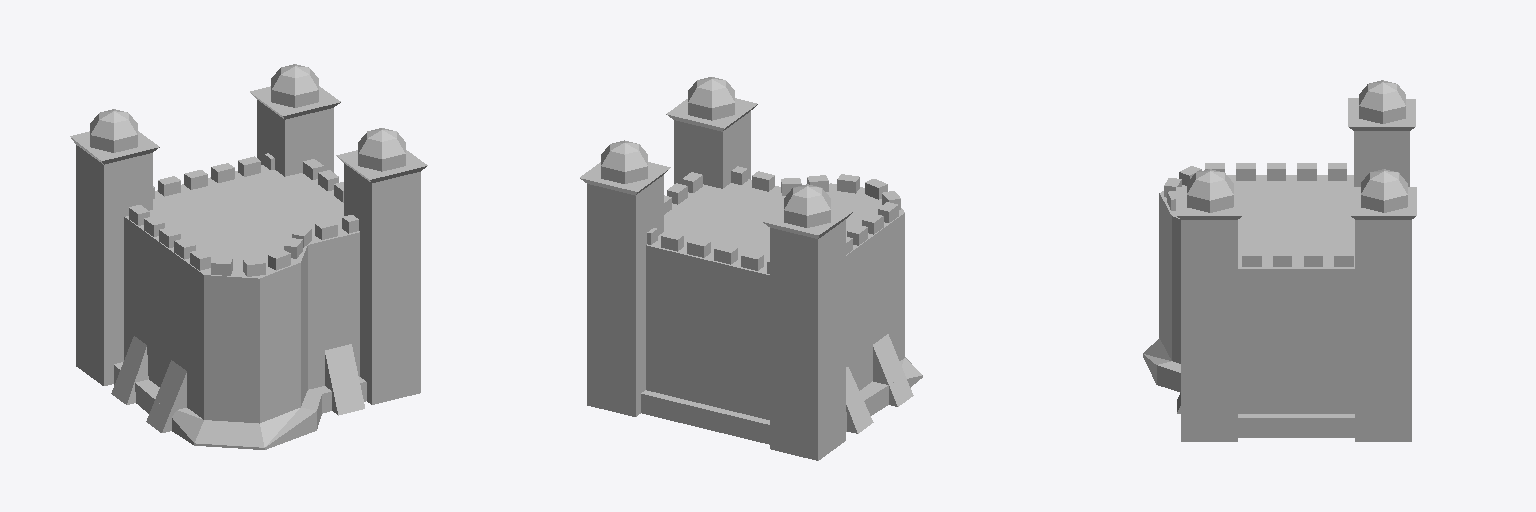
File: OLD CASTLE.obj
The picture shows the model from 3 angles: view 1: azimuth 30°, elevation 25°; view 2: azimuth 150°, elevation 25°; view 3: azimuth 270°, elevation 25°; orthographic projection.
Parts seen in each view (by area): view 1: polySurface11; view 2: polySurface11; view 3: polySurface11.
Boxes of the visible parts, x1=… form: polySurface11: x1=70, y1=64, x2=427, y2=449; polySurface11: x1=580, y1=77, x2=922, y2=460; polySurface11: x1=1143, y1=80, x2=1416, y2=441.
Bounding box in the file's own units: 20.31 × 20.87 × 20.09.